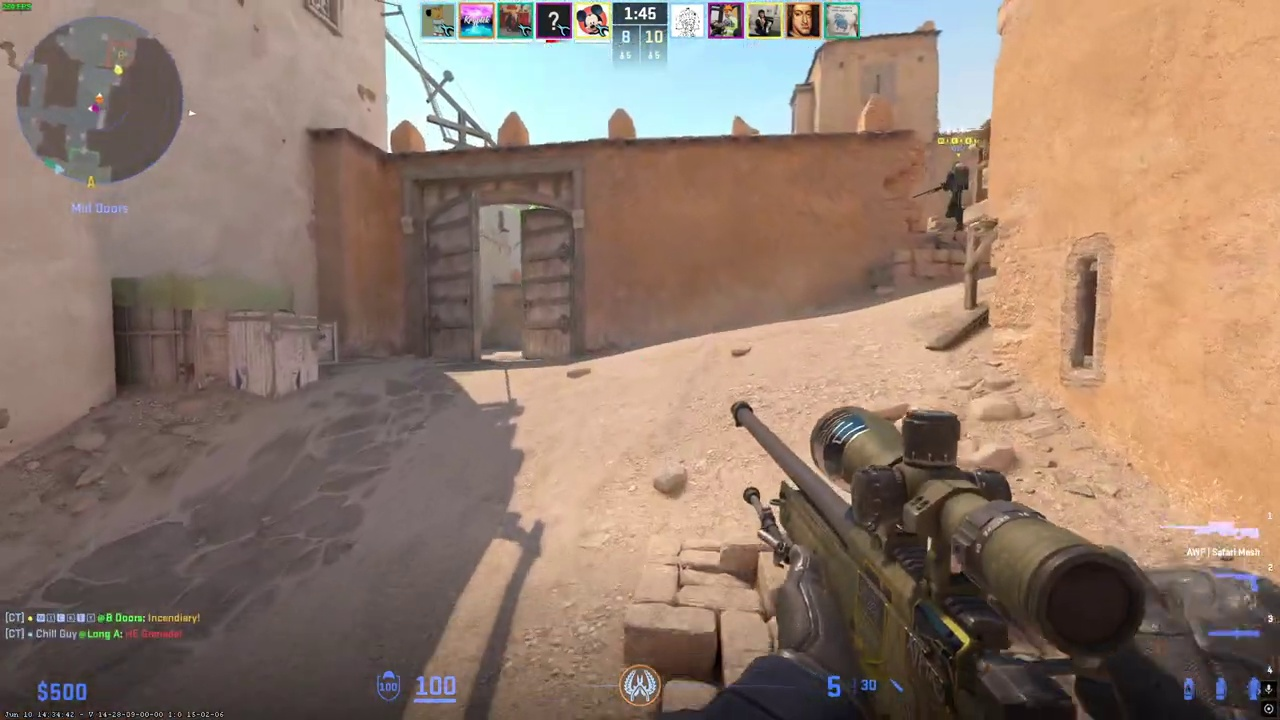CT: (943, 161, 969, 232)
